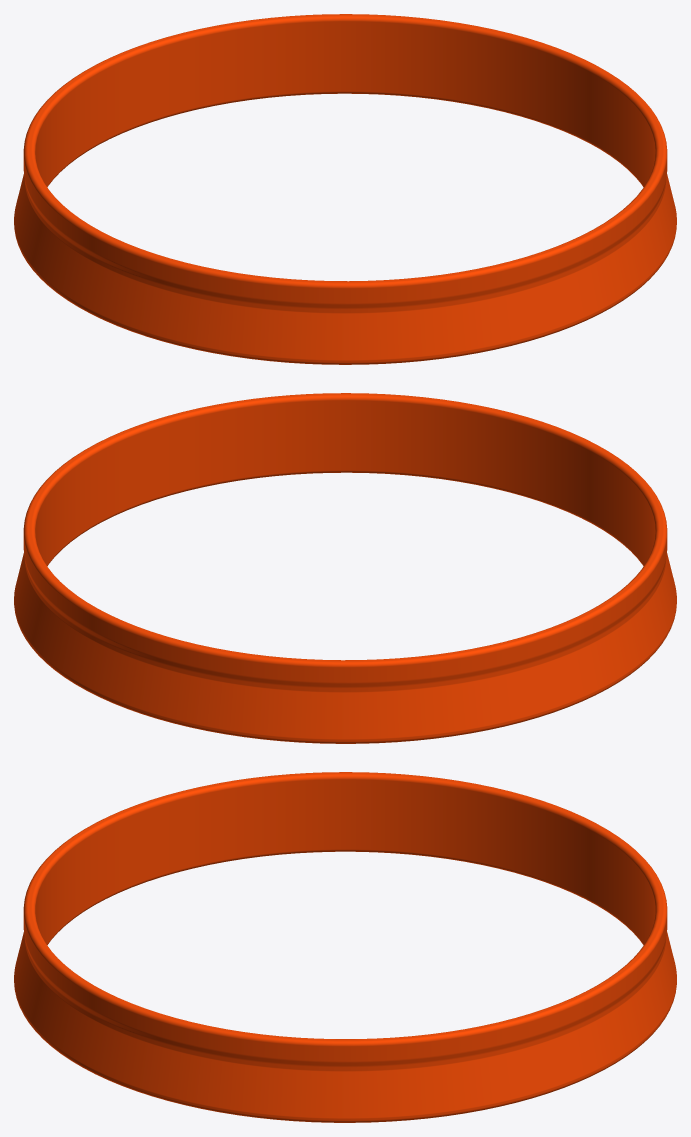
File: orange0.gltf
3 renders of one model, top to bottom at view 1: azimuth 30°, elevation 25°; view 2: azimuth 150°, elevation 25°; view 3: azimuth 270°, elevation 25°, orthographic.
Parts seen in each view (by area): view 1: capbot003; view 2: capbot003; view 3: capbot003.
Part boxes in pixels (bbox=[...]): capbot003: bbox=[14, 14, 676, 364]; capbot003: bbox=[14, 393, 676, 743]; capbot003: bbox=[14, 772, 676, 1122].
Size of the model in its own units: 0.155 by 0.02 by 0.155.
